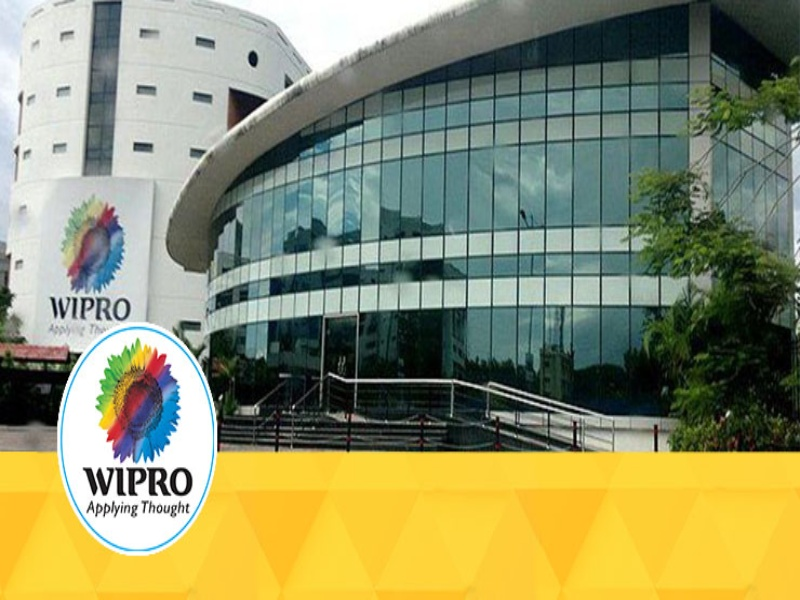wipro: (95, 337, 187, 463), (58, 192, 131, 297)
